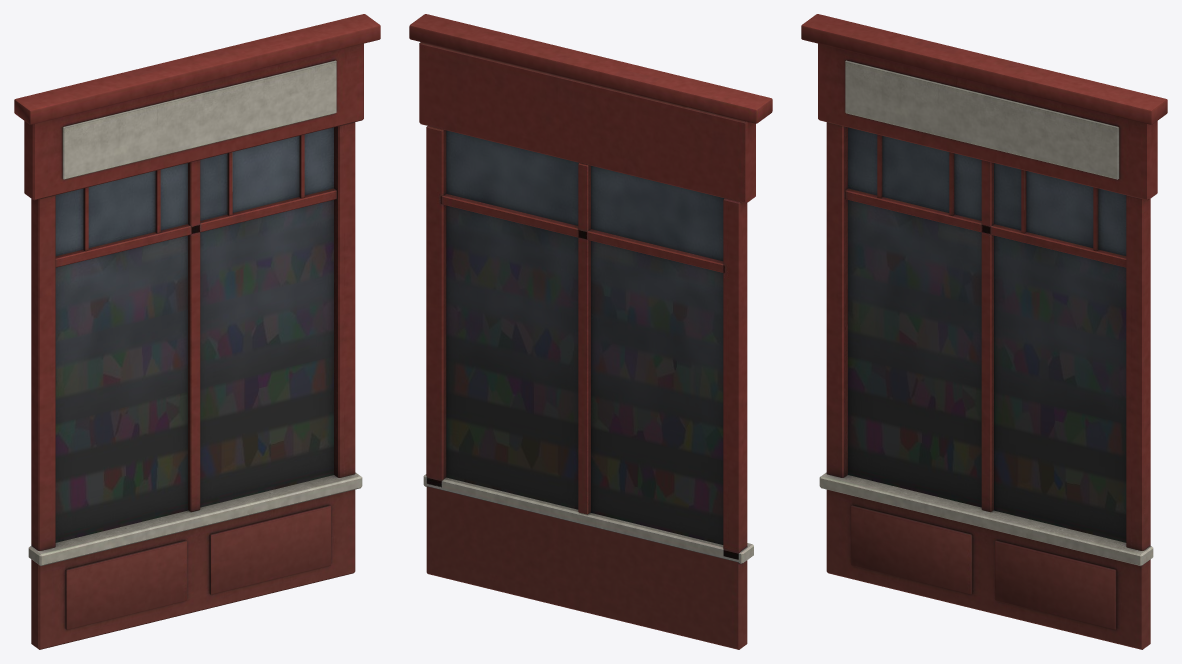
The model's file is shop_town_20_red.glb.
3 views of the same model, side by side, from view 1: azimuth 30°, elevation 25°; view 2: azimuth 150°, elevation 25°; view 3: azimuth 330°, elevation 25° (orthographic).
Visible parts, largest first — view 1: shop_town_20_red; view 2: shop_town_20_red; view 3: shop_town_20_red.
Part boxes in pixels (<box>): shop_town_20_red: <box>14,14,380,649</box>; shop_town_20_red: <box>409,14,772,649</box>; shop_town_20_red: <box>801,14,1167,649</box>.
Size of the model in its own units: 2.44 by 3.65 by 0.2.
Materials: 1 (1 with a texture image).
